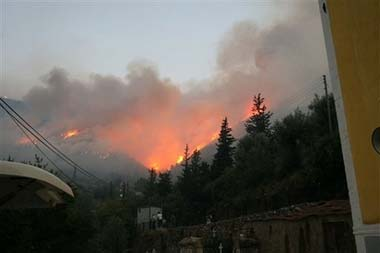fire: (126, 110, 224, 170)
smoke: (220, 22, 318, 94), (29, 74, 114, 120)
